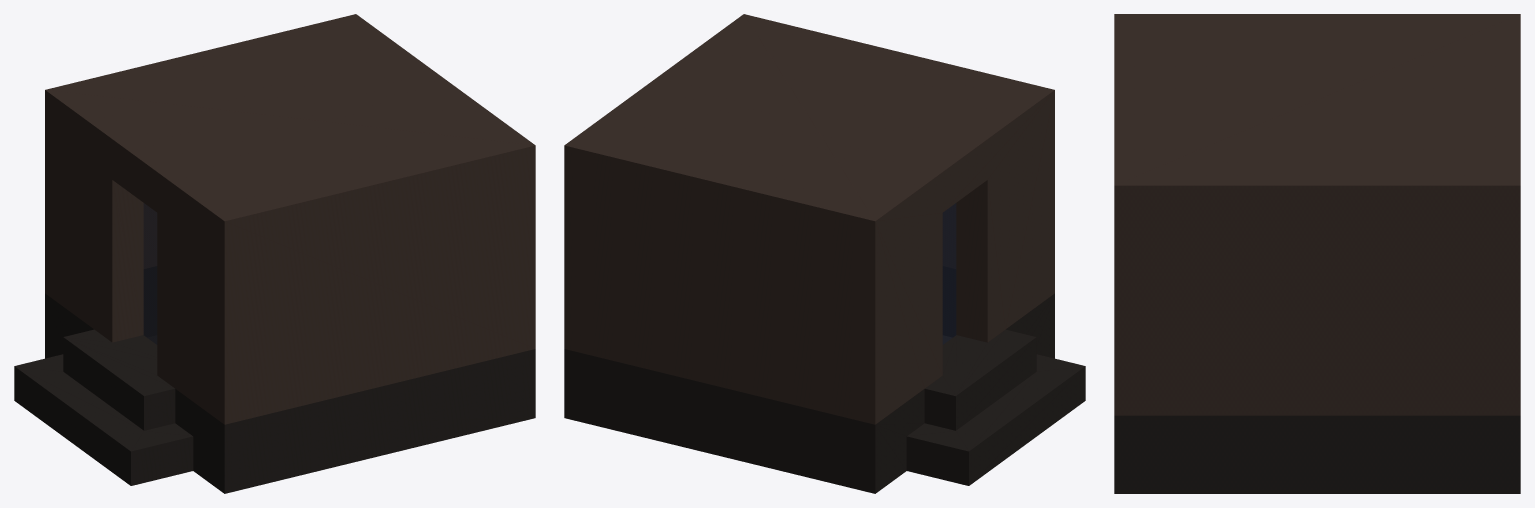
File: modularBuildings_026.obj
3 renders of one model, left to right at view 1: azimuth 30°, elevation 25°; view 2: azimuth 150°, elevation 25°; view 3: azimuth 270°, elevation 25°, orthographic. The views are drawn at different scales.
Parts seen in each view (by area): view 1: Mesh1 Group1 Model; view 2: Mesh1 Group1 Model; view 3: Mesh1 Group1 Model.
Part boxes in pixels (x1,y1,x2,y2): Mesh1 Group1 Model: (14,14,535,493); Mesh1 Group1 Model: (564,14,1085,493); Mesh1 Group1 Model: (1114,14,1520,493).
Size of the model in its own units: 1.2 by 0.8375 by 1.
3 materials, 3 textured.
